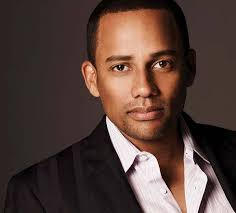black_male: (85, 1, 185, 137)
